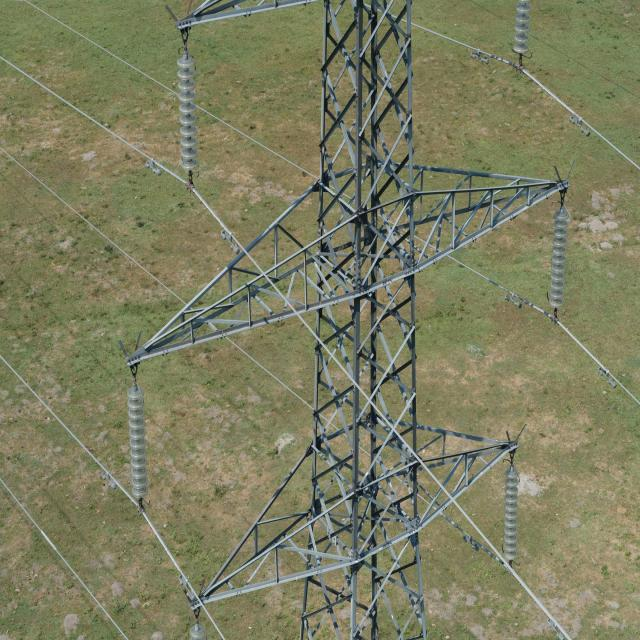direk: (292, 7, 430, 640)
